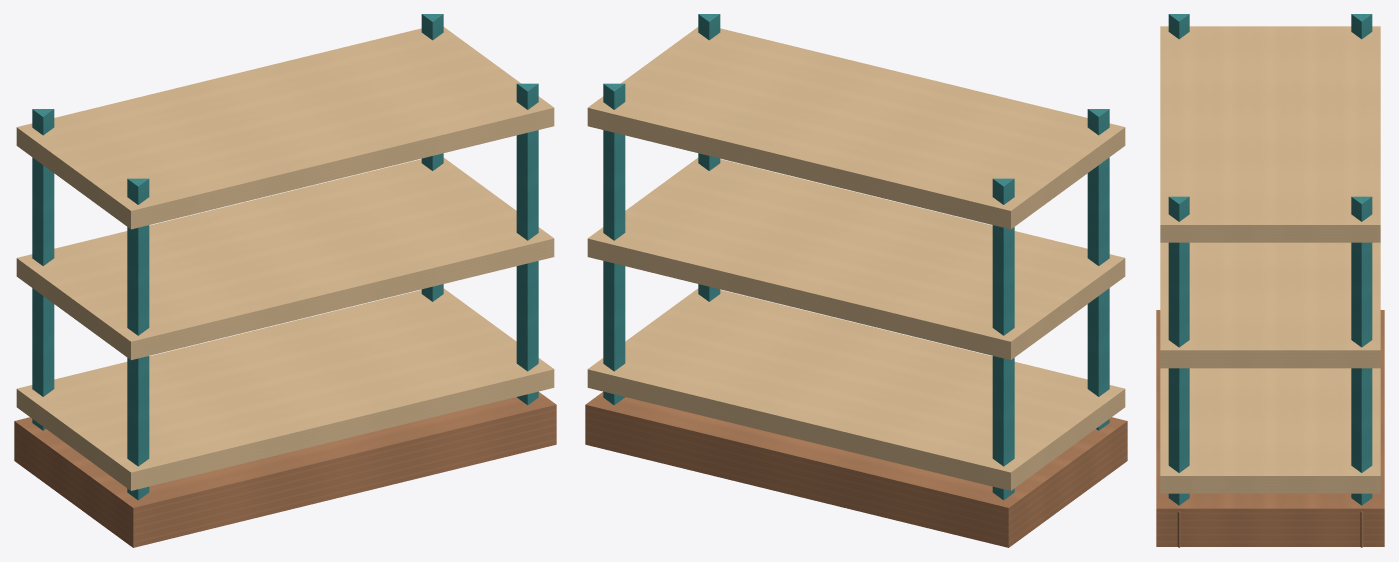
The model's file is atlas100-s093-a06.lod2.glb.
The picture shows the model from 3 angles, left to right: view 1: azimuth 30°, elevation 25°; view 2: azimuth 150°, elevation 25°; view 3: azimuth 270°, elevation 25°; orthographic projection. The views are drawn at different scales.
Visible parts, largest first — view 1: atlas100-s093-a06:part-013, atlas100-s093-a06:part-012, atlas100-s093-a06:part-011, atlas100-s093-a06:part-000, atlas100-s093-a06:part-005, atlas100-s093-a06:part-009, atlas100-s093-a06:part-003, atlas100-s093-a06:part-007; view 2: atlas100-s093-a06:part-013, atlas100-s093-a06:part-012, atlas100-s093-a06:part-011, atlas100-s093-a06:part-000, atlas100-s093-a06:part-003, atlas100-s093-a06:part-007, atlas100-s093-a06:part-005, atlas100-s093-a06:part-009; view 3: atlas100-s093-a06:part-013, atlas100-s093-a06:part-012, atlas100-s093-a06:part-011, atlas100-s093-a06:part-000, atlas100-s093-a06:part-007, atlas100-s093-a06:part-009, atlas100-s093-a06:part-003, atlas100-s093-a06:part-005.
Part boxes in pixels (x1,y1,x2,y2): atlas100-s093-a06:part-013: (16, 27, 554, 229); atlas100-s093-a06:part-012: (16, 158, 554, 360); atlas100-s093-a06:part-011: (16, 288, 554, 490); atlas100-s093-a06:part-000: (14, 392, 556, 547); atlas100-s093-a06:part-005: (127, 178, 149, 500); atlas100-s093-a06:part-009: (516, 83, 538, 405); atlas100-s093-a06:part-003: (32, 109, 54, 430); atlas100-s093-a06:part-007: (421, 14, 443, 301); atlas100-s093-a06:part-013: (587, 27, 1125, 229); atlas100-s093-a06:part-012: (587, 158, 1125, 360); atlas100-s093-a06:part-011: (587, 288, 1125, 490); atlas100-s093-a06:part-000: (585, 392, 1127, 547); atlas100-s093-a06:part-003: (992, 178, 1014, 500); atlas100-s093-a06:part-007: (603, 83, 625, 405); atlas100-s093-a06:part-005: (1087, 109, 1109, 430); atlas100-s093-a06:part-009: (698, 14, 720, 301); atlas100-s093-a06:part-013: (1160, 26, 1380, 242); atlas100-s093-a06:part-012: (1160, 242, 1380, 368); atlas100-s093-a06:part-011: (1160, 368, 1380, 493); atlas100-s093-a06:part-000: (1156, 310, 1384, 546); atlas100-s093-a06:part-007: (1351, 196, 1372, 505); atlas100-s093-a06:part-009: (1168, 196, 1189, 505); atlas100-s093-a06:part-003: (1351, 14, 1372, 39); atlas100-s093-a06:part-005: (1168, 14, 1189, 39).
Bounding box in the file's own units: 2.89 × 2.3 × 1.4.
Materials: 3 (3 with a texture image).
